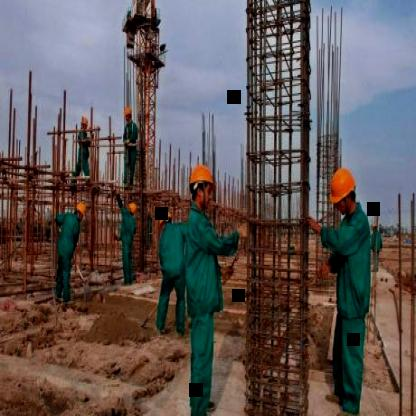helmet: (185, 160, 217, 216), (328, 164, 358, 221), (158, 206, 173, 232), (72, 201, 88, 223), (122, 102, 136, 127), (78, 111, 90, 133), (125, 199, 137, 220)
